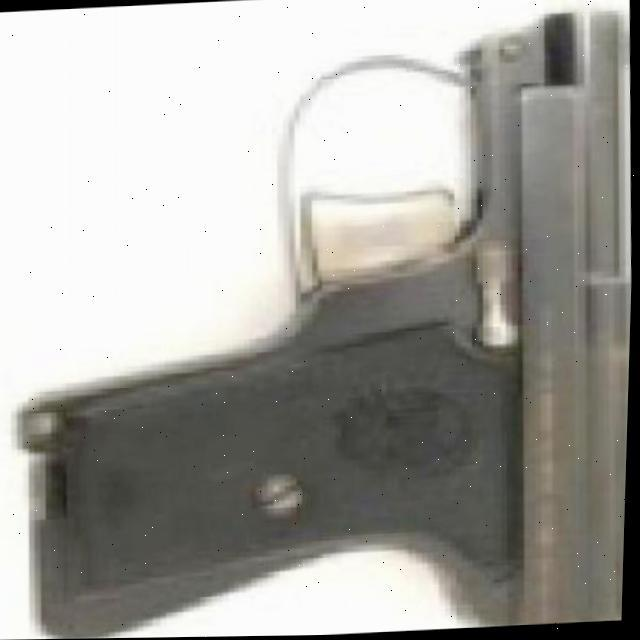gun: (11, 11, 640, 640)
